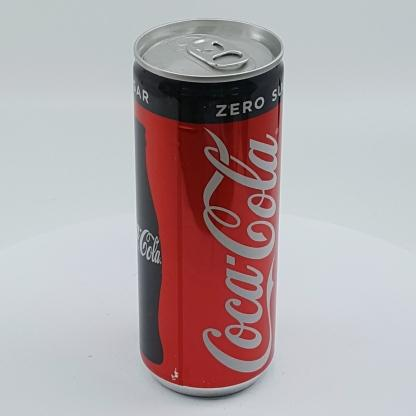------250ML: (133, 18, 285, 397)
